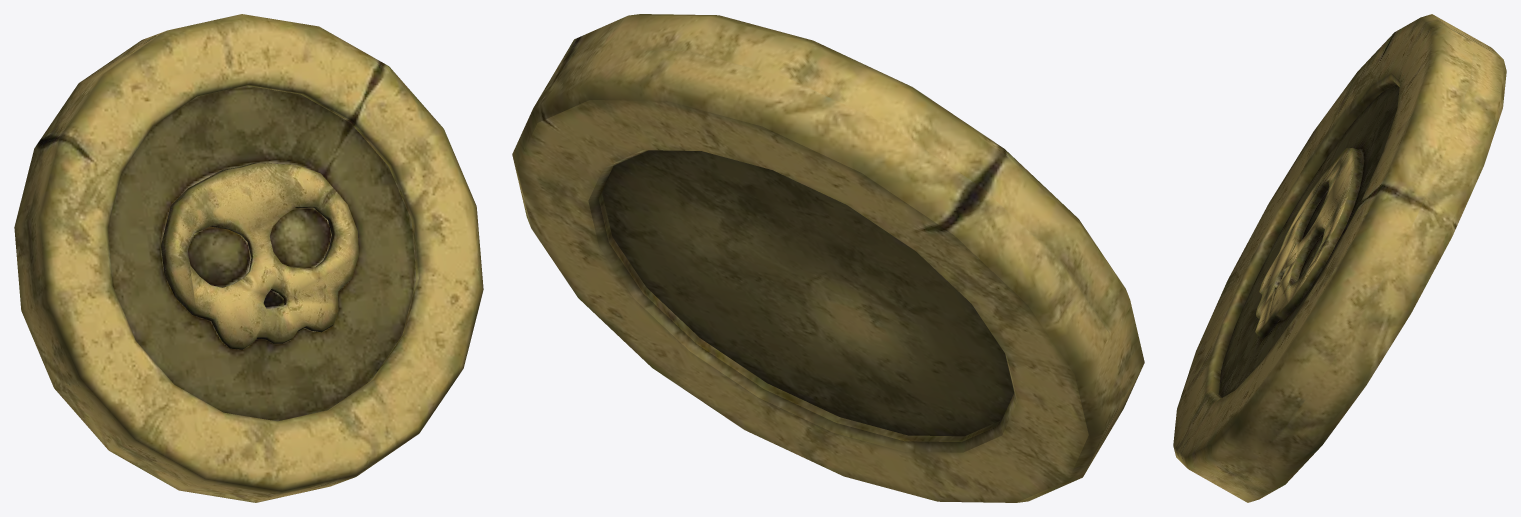
Rendered from pirate-coin.glb.
3 renders of one model, left to right at view 1: azimuth 30°, elevation 25°; view 2: azimuth 150°, elevation 25°; view 3: azimuth 270°, elevation 25°, orthographic. The views are drawn at different scales.
Parts seen in each view (by area): view 1: Object_2; view 2: Object_2; view 3: Object_2.
Boxes of the visible parts, left/top/right/bottom form: Object_2: left=14, top=14, right=483, bottom=502; Object_2: left=512, top=14, right=1144, bottom=502; Object_2: left=1173, top=14, right=1506, bottom=502.
Size of the model in its own units: 12.05 by 10.95 by 7.69.
Materials: 1 (1 with a texture image).
